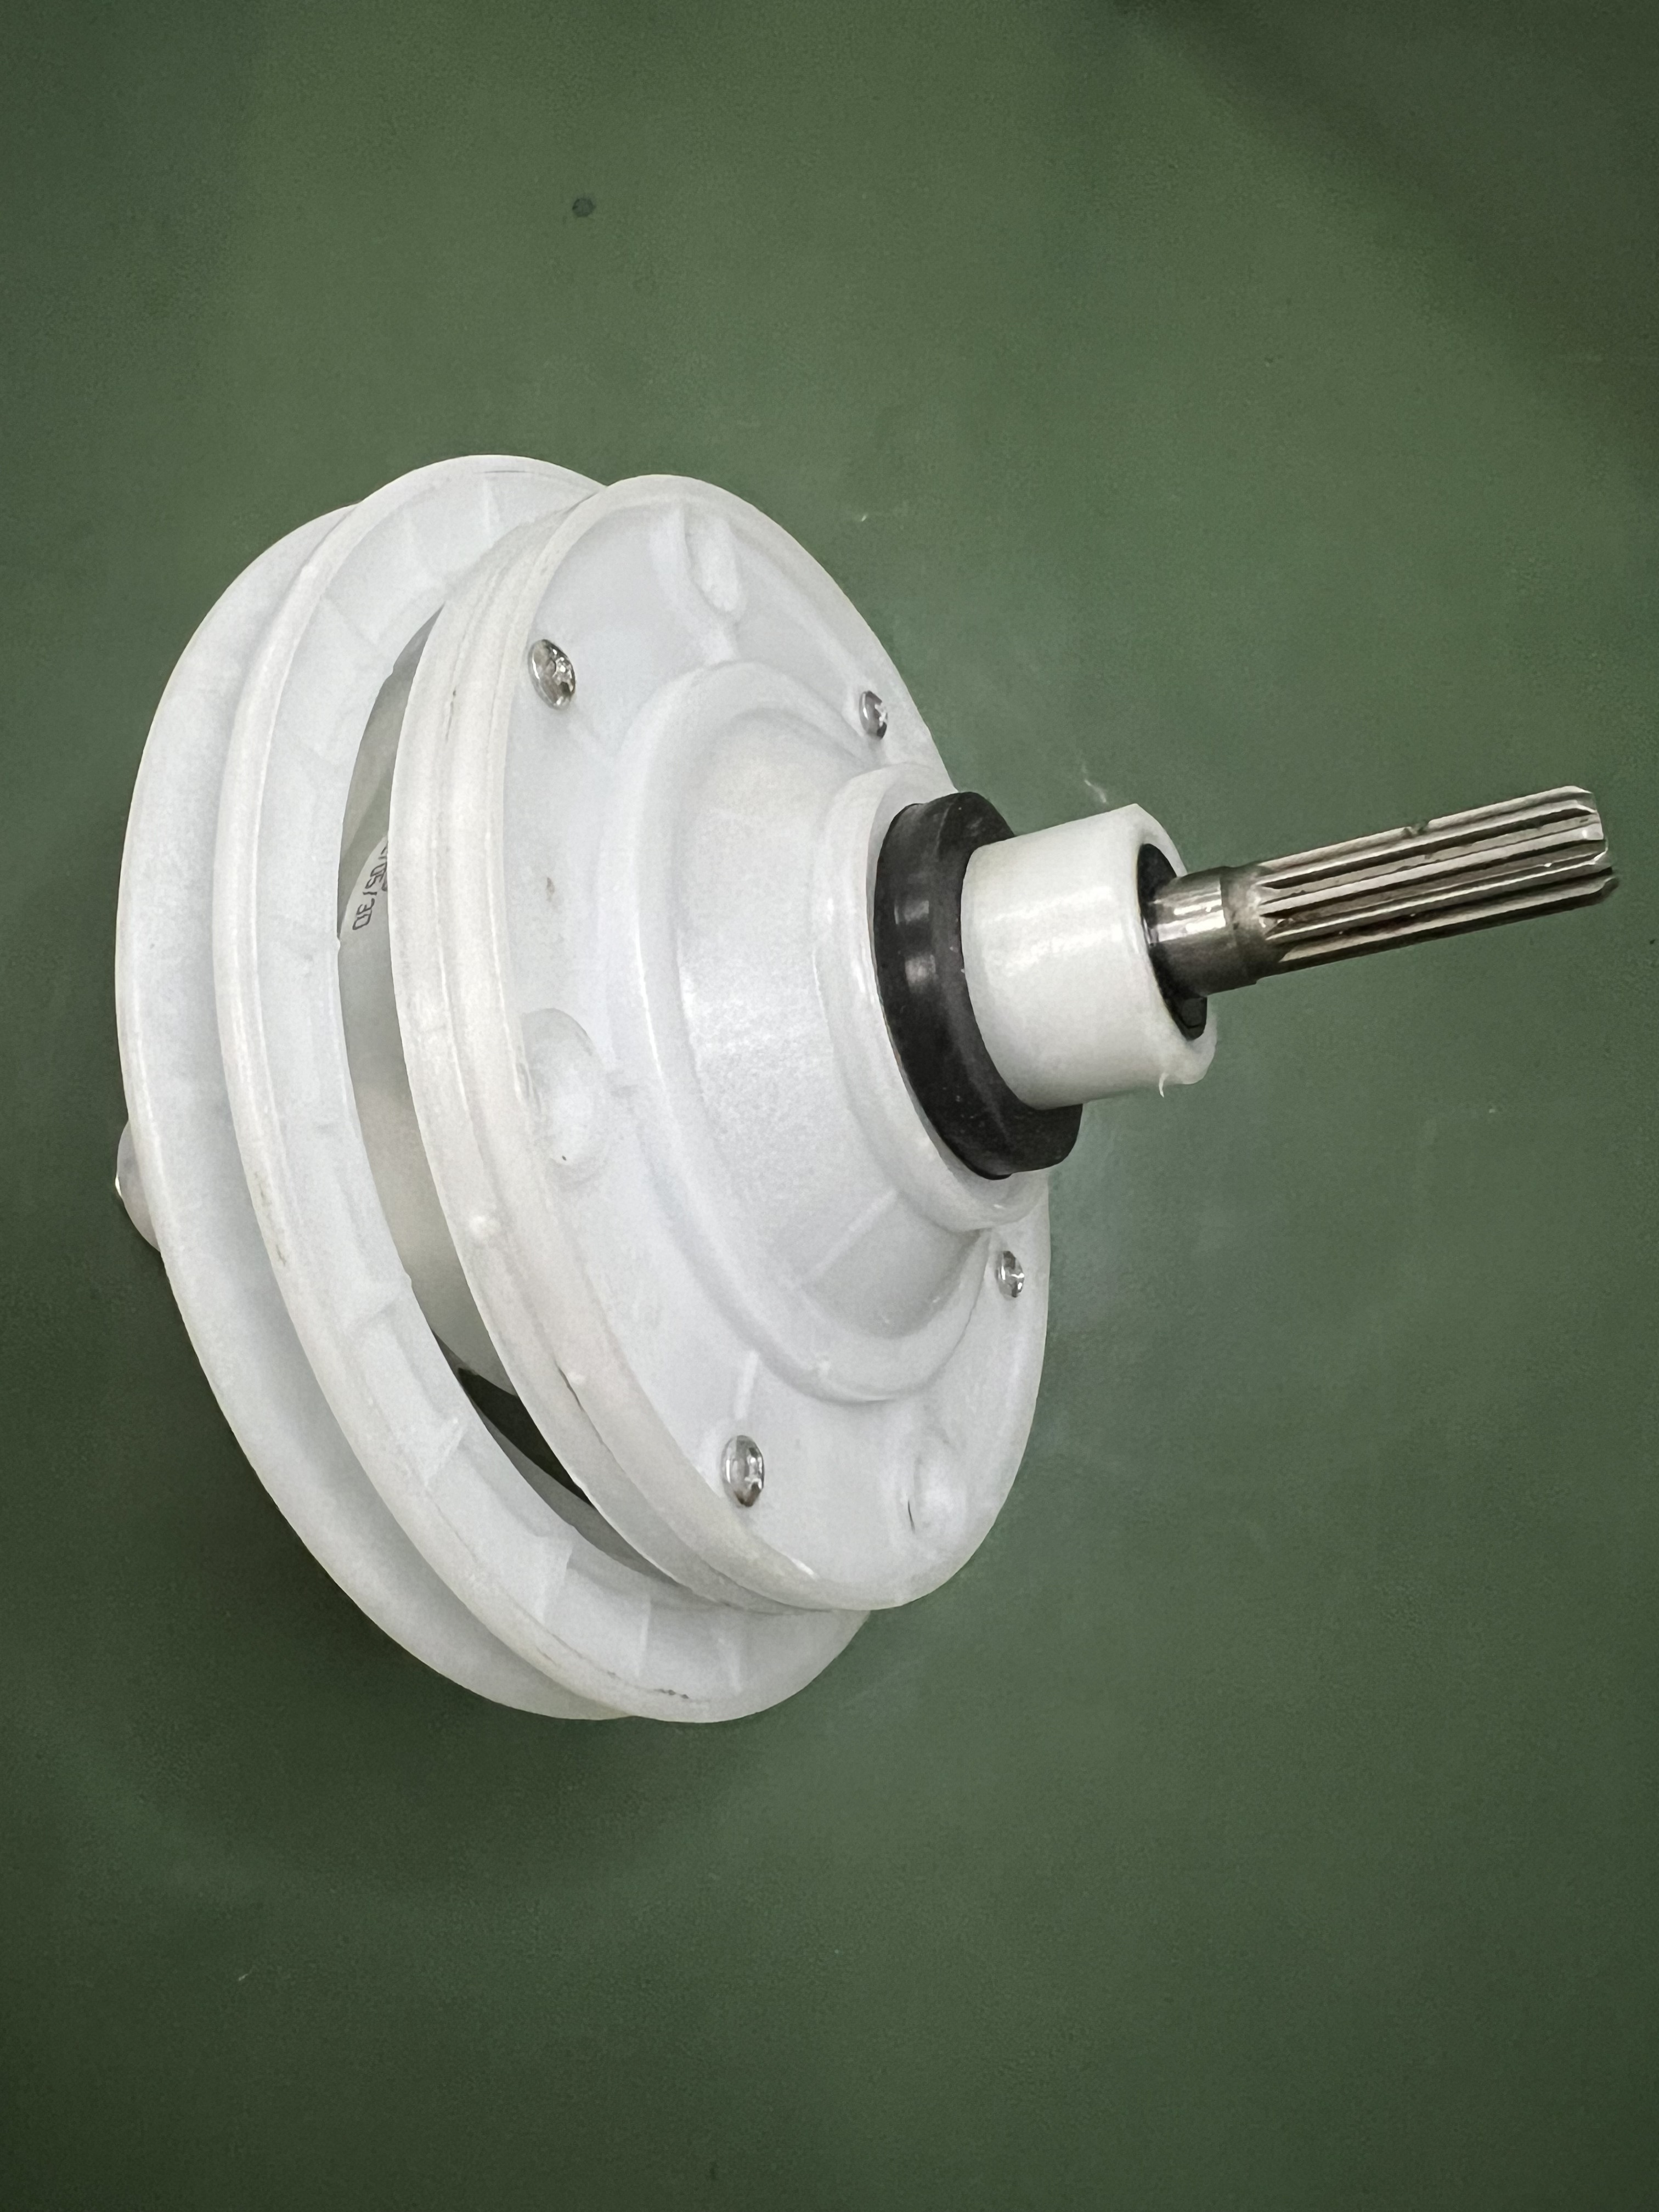gear_box_circle: (106, 449, 1633, 1743)
